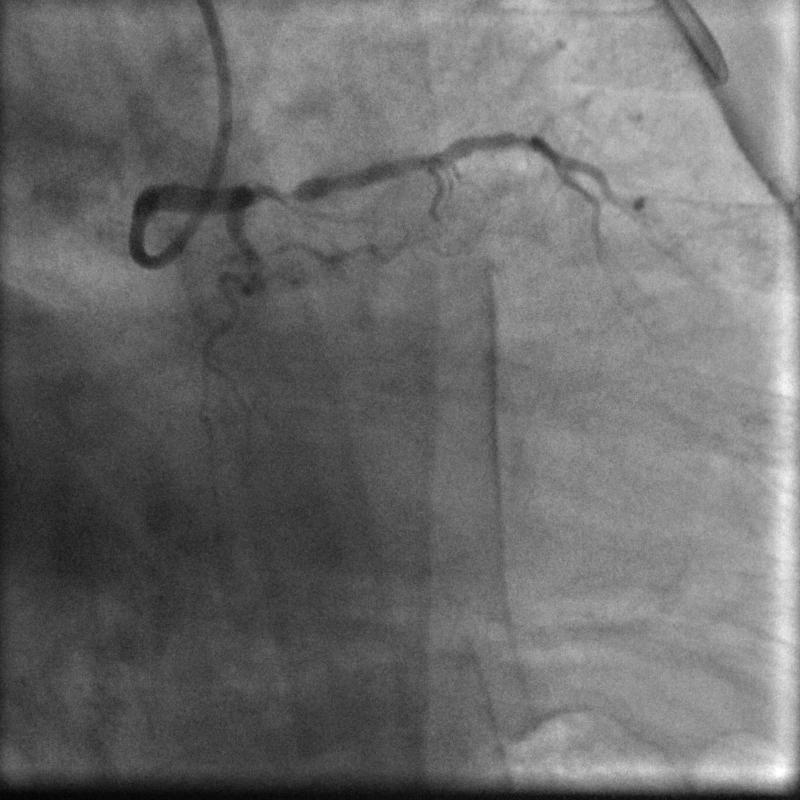Stenosis: (247, 172, 309, 205)
